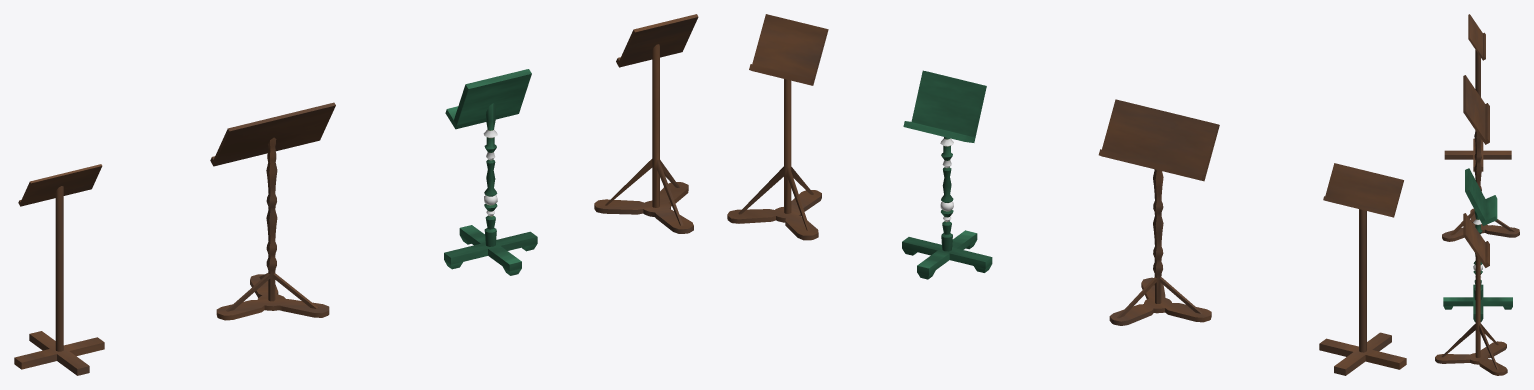
The model's file is Atriles.fbx.
3 views of the same model, side by side, from view 1: azimuth 30°, elevation 25°; view 2: azimuth 150°, elevation 25°; view 3: azimuth 270°, elevation 25° (orthographic). The views are drawn at different scales.
Visible parts, largest first — view 1: Cube.045, Cube.041, Cube.040, Cube.042, Circle.002, Cube.008, Cube.043, Circle.003, Circle.001, Cube.044, Cylinder, Cylinder.001; view 2: Cube.045, Cube.041, Cube.040, Cube.044, Cube.042, Cube.008, Cube.043, Circle.003, Circle.002, Circle.001, Cylinder, Cylinder.001; view 3: Cube.045, Circle.003, Cube.008, Cube.041, Cube.042, Cube.043, Cube.040, Circle.001, Circle.002, Cube.044, Cylinder.001, Cylinder.
Part boxes in pixels (left/top/right/bottom): Cube.045: left=210, top=102, right=335, bottom=166; Cube.041: left=445, top=69, right=531, bottom=129; Cube.040: left=616, top=14, right=698, bottom=67; Cube.042: left=444, top=225, right=537, bottom=275; Circle.002: left=226, top=137, right=317, bottom=311; Cube.008: left=605, top=44, right=683, bottom=225; Cube.043: left=14, top=331, right=104, bottom=375; Circle.003: left=594, top=182, right=693, bottom=233; Circle.001: left=216, top=274, right=329, bottom=320; Cube.044: left=18, top=164, right=102, bottom=206; Cylinder: left=55, top=186, right=63, bottom=351; Cylinder.001: left=483, top=103, right=497, bottom=246; Cube.045: left=1098, top=99, right=1219, bottom=181; Cube.041: left=903, top=70, right=986, bottom=142; Cube.040: left=749, top=14, right=828, bottom=85; Cube.044: left=1323, top=163, right=1403, bottom=217; Cube.042: left=902, top=230, right=992, bottom=279; Cube.008: left=738, top=79, right=813, bottom=230; Cube.043: left=1319, top=332, right=1406, bottom=375; Circle.003: left=727, top=190, right=821, bottom=240; Circle.002: left=1117, top=169, right=1202, bottom=318; Circle.001: left=1109, top=277, right=1211, bottom=325; Cylinder: left=1359, top=209, right=1366, bottom=352; Cylinder.001: left=940, top=137, right=953, bottom=251; Cube.045: left=1463, top=75, right=1489, bottom=144; Circle.003: left=1435, top=341, right=1507, bottom=375; Cube.008: left=1441, top=254, right=1498, bottom=369; Cube.041: left=1465, top=168, right=1497, bottom=225; Cube.042: left=1443, top=284, right=1512, bottom=322; Cube.043: left=1444, top=138, right=1511, bottom=171; Cube.040: left=1463, top=213, right=1489, bottom=267; Circle.001: left=1442, top=208, right=1519, bottom=241; Circle.002: left=1450, top=131, right=1515, bottom=235; Cube.044: left=1468, top=14, right=1485, bottom=60; Cylinder.001: left=1473, top=210, right=1482, bottom=299; Cylinder: left=1475, top=50, right=1480, bottom=152.
Size of the model in its own units: 453 by 128 by 69.61.
